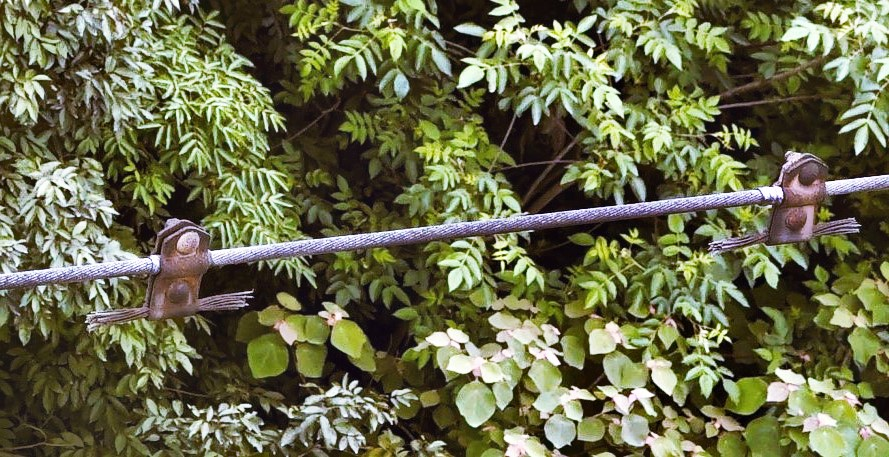Damage of shockproof hammer: (75, 213, 256, 339), (702, 142, 865, 254)
